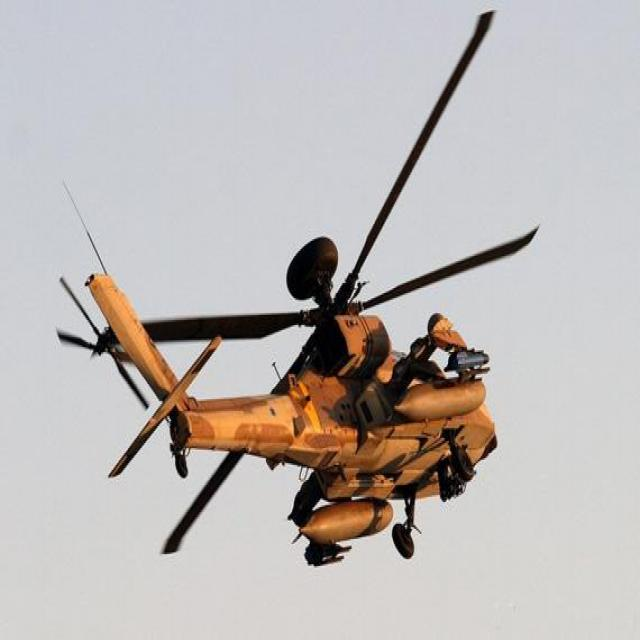MIL_HELO: (52, 1, 560, 585)
